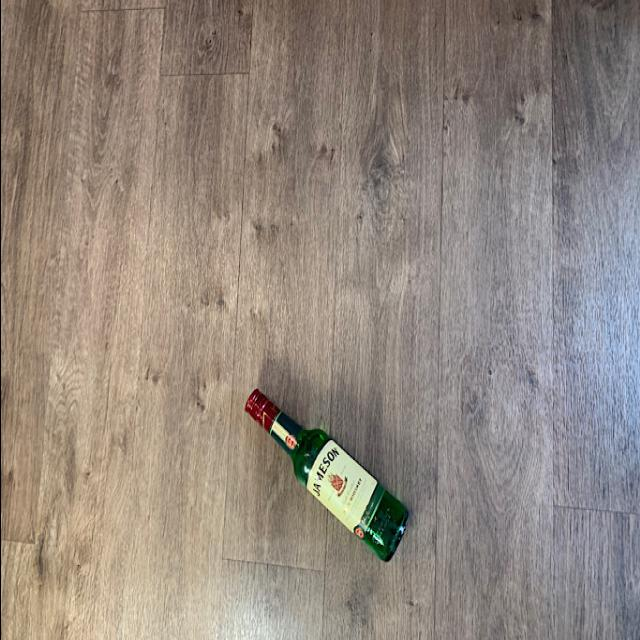Glass Bottle: (243, 388, 411, 562)
